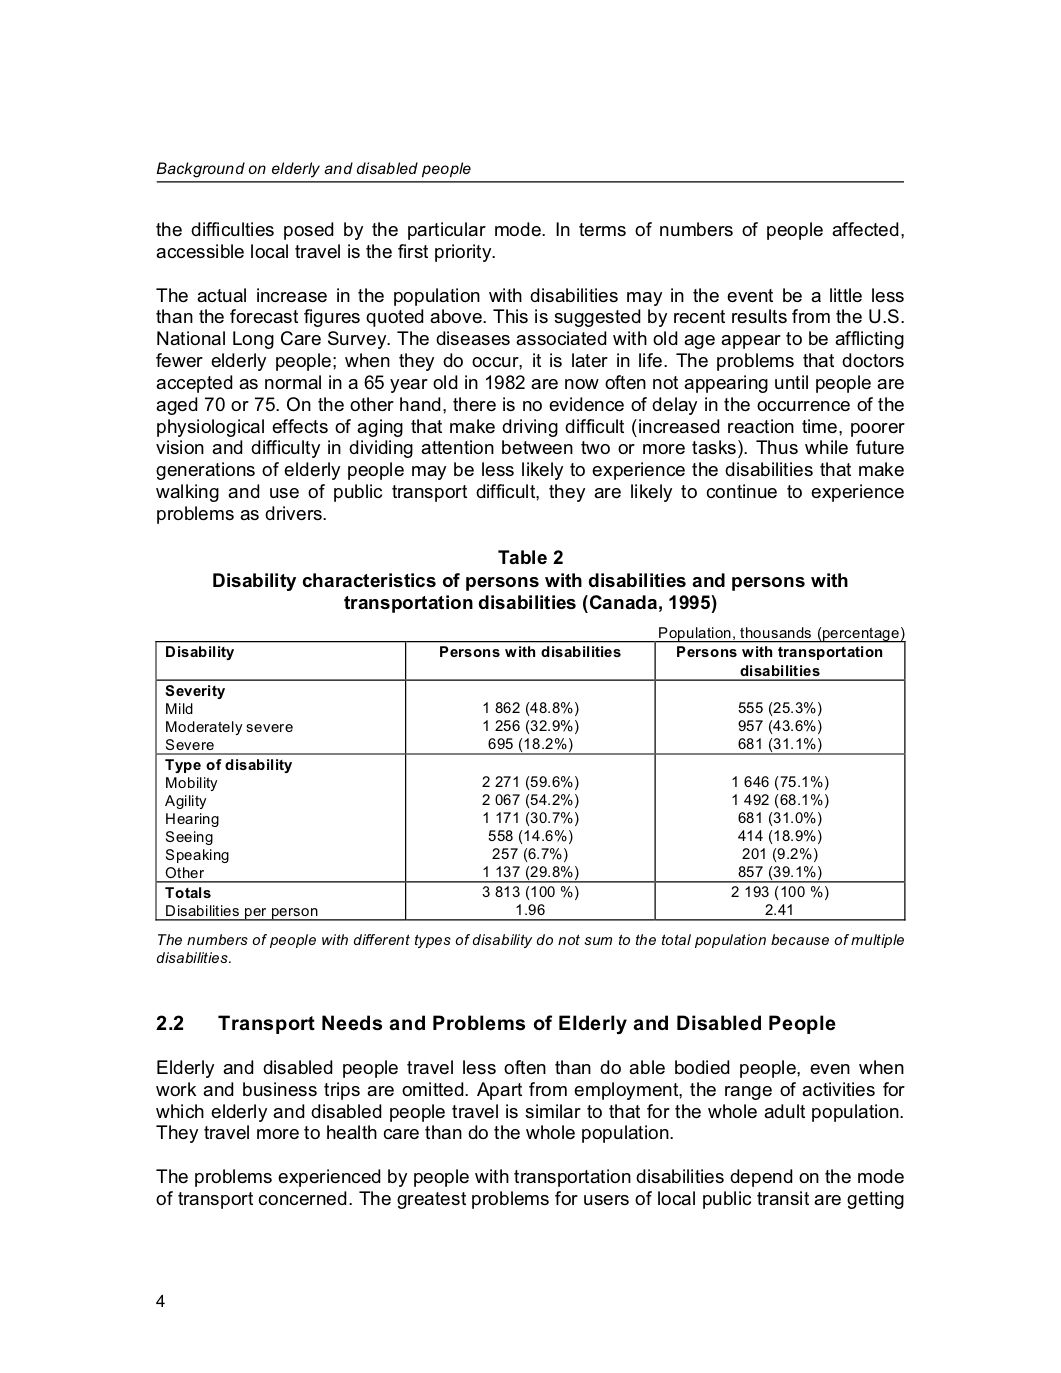Table: (155, 625, 905, 921)
